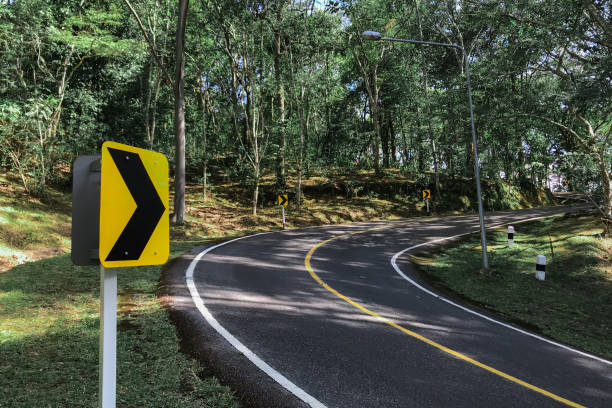left turn: (565, 179, 569, 184)
right turn: (102, 143, 168, 263), (278, 195, 288, 206), (423, 189, 430, 198)
